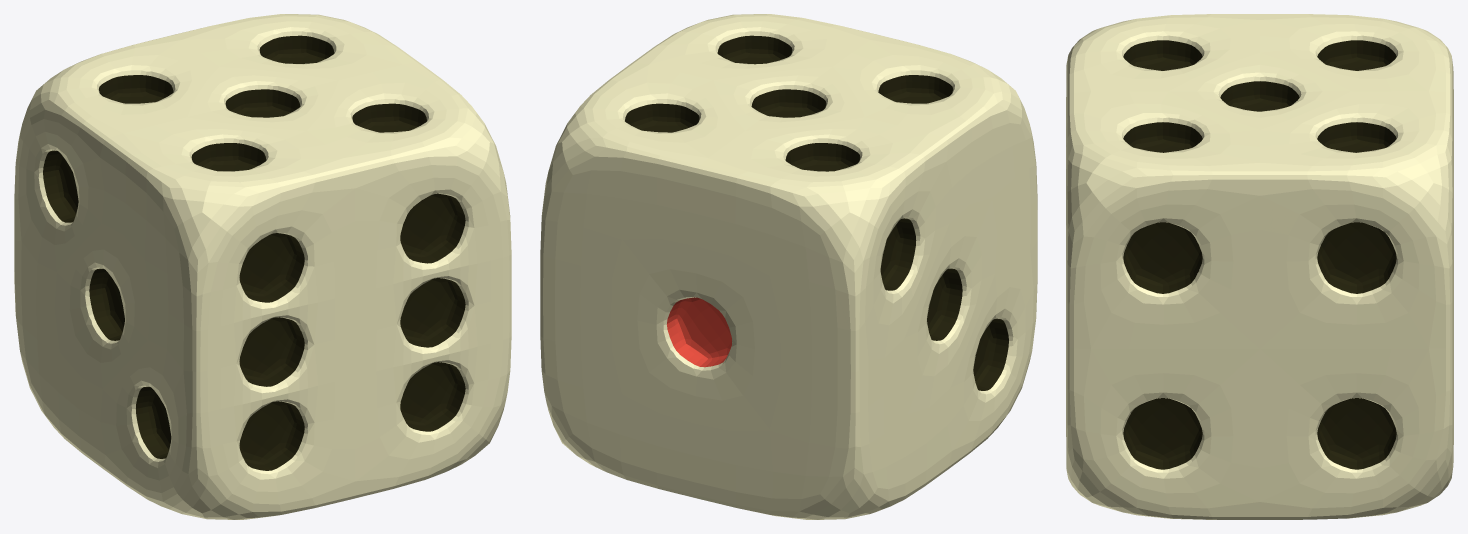
The model's file is dice-transformed.glb.
3 views of the same model, side by side, from view 1: azimuth 30°, elevation 25°; view 2: azimuth 150°, elevation 25°; view 3: azimuth 270°, elevation 25° (orthographic). The views are drawn at different scales.
Parts seen in each view (by area): view 1: Cube; view 2: Cube; view 3: Cube.
Boxes of the visible parts, x1=… form: Cube: x1=14, y1=14, x2=511, y2=519; Cube: x1=540, y1=14, x2=1037, y2=519; Cube: x1=1066, y1=14, x2=1453, y2=519.
Size of the model in its own units: 2 by 2 by 2.
